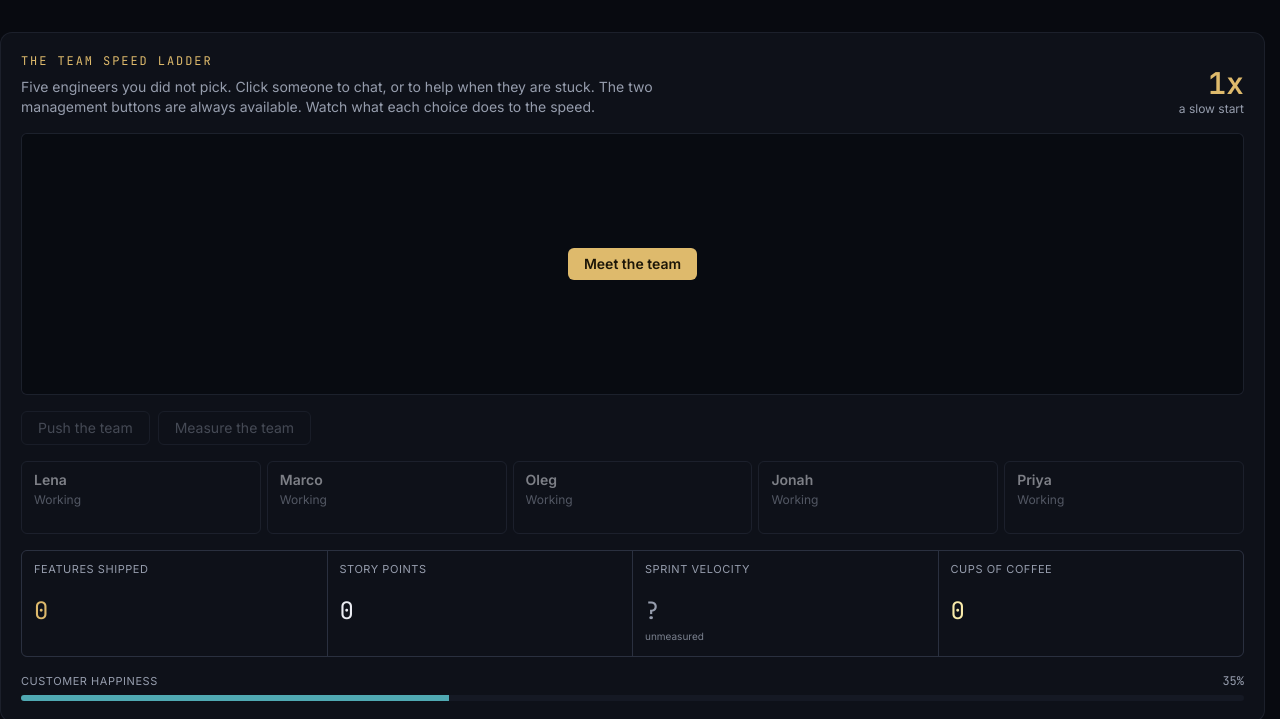
TeamGame › puts up the dashboard: velocity goes from unmeasured to live
Expected: the text "unmeasured" is shown, 645,630 -> 704,642
Click the button "Meet the team": (632, 264) 568,248 -> 697,280
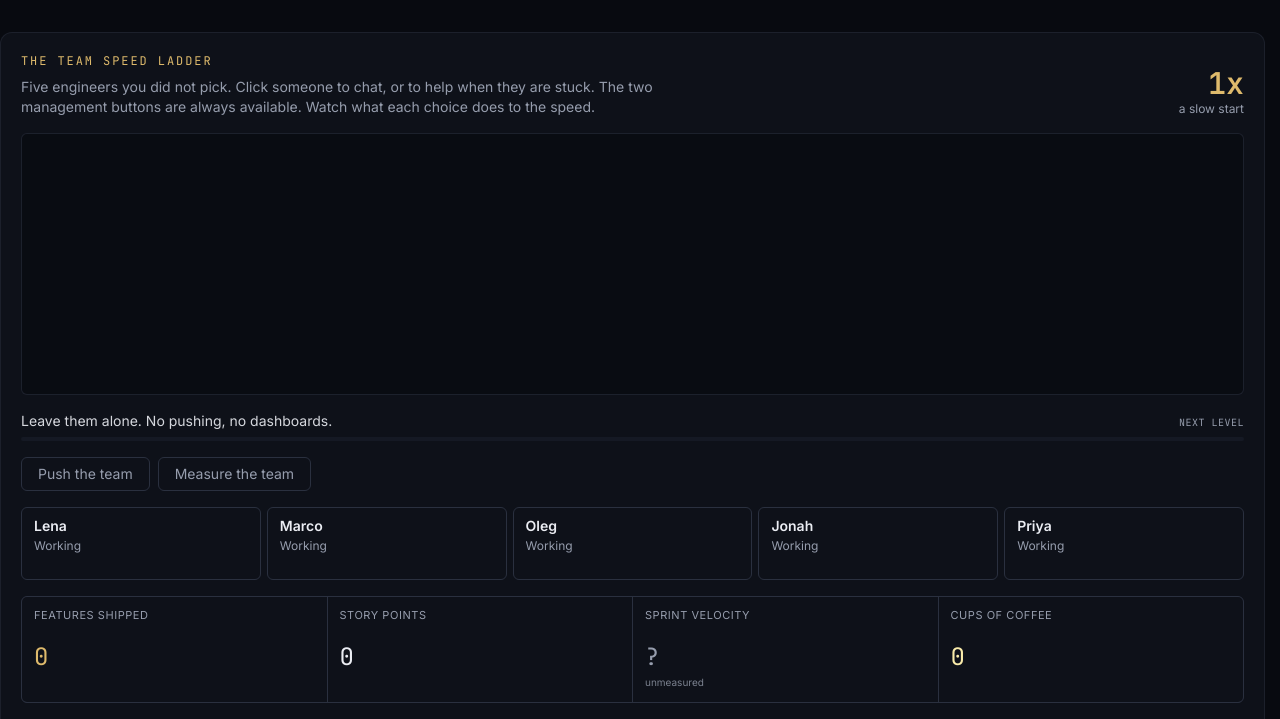
Click the button "Measure the team": (234, 474) 158,457 -> 311,491
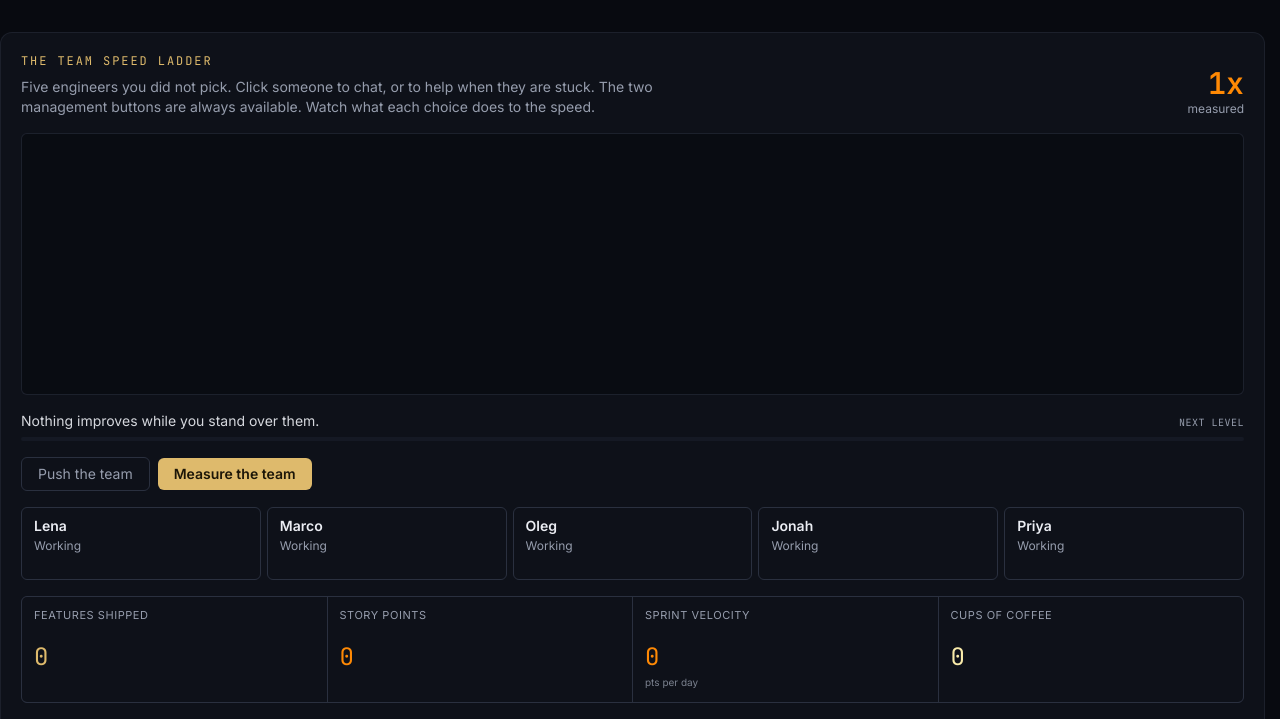
Now the text "pts per day" is shown, box 645,676 -> 698,688
Now the text "measured" is shown, box 1188,101 -> 1244,117
